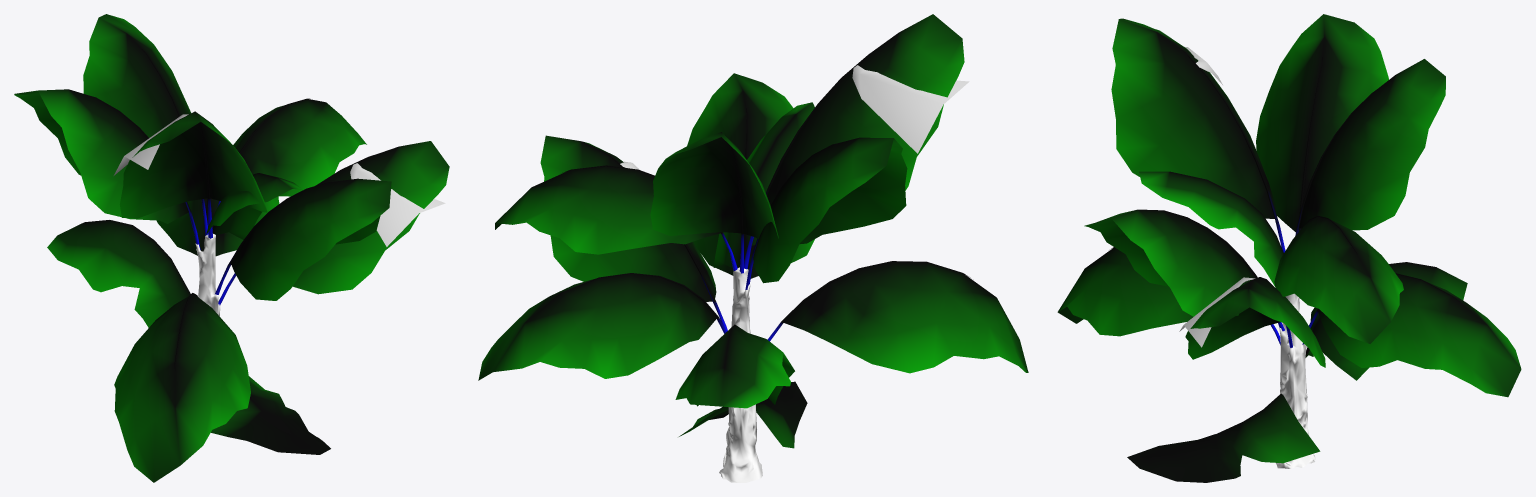
File: CoconutPalmTree03_afsTREE_xlprl06_xlod01.fbx
3 renders of one model, left to right at view 1: azimuth 30°, elevation 25°; view 2: azimuth 150°, elevation 25°; view 3: azimuth 270°, elevation 25°, orthographic. The views are drawn at different scales.
Visible parts, largest first — view 1: PalmBranch01_xw03_xt05_xlp00, PalmBranch01_xw04_xt06_xlp00, PalmBranch01_xw08_xt06_xlp00, PalmBranch01_xw07_xt07_xlp00, DeadPalmBranch_xw02_xt03_xlp02_xp03, PalmBranch01_xw09_xt08_xlp00, PalmBranch01_xw06_xt06_xlp00, PalmBranch01_xw06_xt05_xlp00, DeadPalmBranch_xw00_xt00_xlp00, DeadPalmBranch_xw04_xt08_xlp05_xp04, PalmBranch01_xw04_xt06_xlp00.001, PalmBlade02_bent_right_xw03_xt05_xlp05.001 (+2 smaller); view 2: PalmBranch01_xw03_xt05_xlp00, PalmBranch01_xw04_xt06_xlp00.001, PalmBranch01_xw07_xt07_xlp00, PalmBranch01_xw08_xt06_xlp00, PalmBranch01_xw06_xt06_xlp00, PalmBranch01_xw09_xt08_xlp00, PalmBranch01_xw06_xt05_xlp00, DeadPalmBranch_xw02_xt03_xlp02_xp03, PalmBranch01_xw04_xt06_xlp00, PalmBlade02_bent_right_xw03_xt05_xlp05, trunk_CoconutPalmTree03_xw04_xt03_xlp05, DeadPalmBranch_xw04_xt08_xlp05_xp04 (+1 smaller); view 3: PalmBranch01_xw08_xt06_xlp00, PalmBranch01_xw07_xt07_xlp00, PalmBranch01_xw09_xt08_xlp00, PalmBranch01_xw04_xt06_xlp00.001, PalmBranch01_xw06_xt06_xlp00, PalmBranch01_xw04_xt06_xlp00, DeadPalmBranch_xw00_xt00_xlp00, PalmBranch01_xw03_xt05_xlp00, PalmBranch01_xw06_xt05_xlp00, DeadPalmBranch_xw04_xt08_xlp05_xp04, trunk_CoconutPalmTree03_xw04_xt03_xlp05, DeadPalmBranch_xw02_xt03_xlp02_xp03 (+2 smaller).
Boxes of the visible parts, x1,y1,x2,y2 form: PalmBranch01_xw03_xt05_xlp00: [114, 294, 250, 482]; PalmBranch01_xw04_xt06_xlp00: [231, 178, 392, 300]; PalmBranch01_xw08_xt06_xlp00: [119, 111, 267, 218]; PalmBranch01_xw07_xt07_xlp00: [14, 89, 188, 223]; DeadPalmBranch_xw02_xt03_xlp02_xp03: [47, 220, 190, 327]; PalmBranch01_xw09_xt08_xlp00: [83, 14, 190, 137]; PalmBranch01_xw06_xt06_xlp00: [233, 99, 366, 196]; PalmBranch01_xw06_xt05_xlp00: [293, 141, 449, 294]; DeadPalmBranch_xw00_xt00_xlp00: [211, 376, 330, 454]; DeadPalmBranch_xw04_xt08_xlp05_xp04: [206, 173, 303, 239]; PalmBranch01_xw04_xt06_xlp00.001: [156, 196, 279, 256]; PalmBlade02_bent_right_xw03_xt05_xlp05.001: [350, 163, 445, 246]; PalmBranch01_xw03_xt05_xlp00: [784, 262, 1028, 373]; PalmBranch01_xw04_xt06_xlp00.001: [478, 273, 716, 380]; PalmBranch01_xw07_xt07_xlp00: [753, 137, 907, 283]; PalmBranch01_xw08_xt06_xlp00: [767, 14, 964, 205]; PalmBranch01_xw06_xt06_xlp00: [495, 166, 720, 254]; PalmBranch01_xw09_xt08_xlp00: [650, 132, 778, 238]; PalmBranch01_xw06_xt05_xlp00: [540, 135, 716, 301]; DeadPalmBranch_xw02_xt03_xlp02_xp03: [675, 324, 794, 408]; PalmBranch01_xw04_xt06_xlp00: [687, 73, 814, 278]; PalmBlade02_bent_right_xw03_xt05_xlp05: [852, 65, 969, 153]; trunk_CoconutPalmTree03_xw04_xt03_xlp05: [719, 267, 762, 482]; DeadPalmBranch_xw04_xt08_xlp05_xp04: [713, 102, 814, 267]; PalmBranch01_xw08_xt06_xlp00: [1111, 18, 1275, 218]; PalmBranch01_xw07_xt07_xlp00: [1256, 14, 1388, 232]; PalmBranch01_xw09_xt08_xlp00: [1299, 59, 1445, 230]; PalmBranch01_xw04_xt06_xlp00.001: [1318, 274, 1521, 397]; PalmBranch01_xw06_xt06_xlp00: [1274, 216, 1403, 343]; PalmBranch01_xw04_xt06_xlp00: [1084, 209, 1255, 316]; DeadPalmBranch_xw00_xt00_xlp00: [1127, 393, 1320, 482]; PalmBranch01_xw03_xt05_xlp00: [1057, 247, 1193, 336]; PalmBranch01_xw06_xt05_xlp00: [1185, 277, 1325, 367]; DeadPalmBranch_xw04_xt08_xlp05_xp04: [1139, 171, 1283, 286]; trunk_CoconutPalmTree03_xw04_xt03_xlp05: [1276, 293, 1315, 468]; DeadPalmBranch_xw02_xt03_xlp02_xp03: [1305, 262, 1467, 380].
Size of what is drawn, in the model's own units: 5.79 by 6.06 by 5.69.
